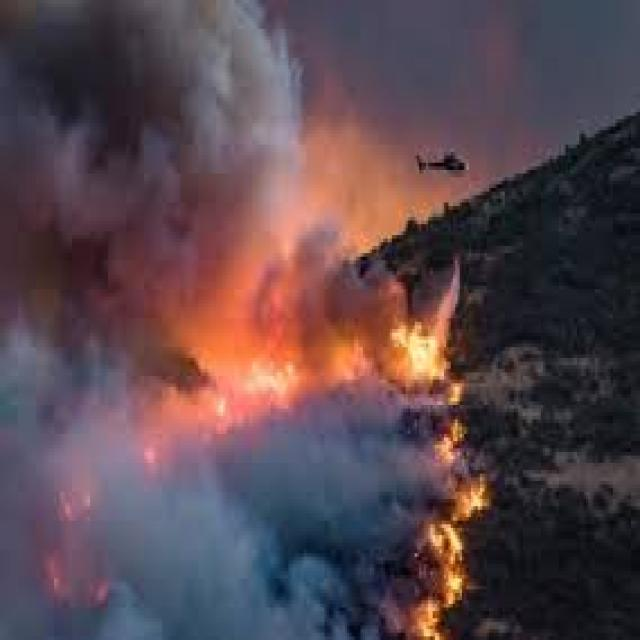Fire: (164, 326, 318, 434), (422, 421, 484, 640), (394, 316, 465, 400)
